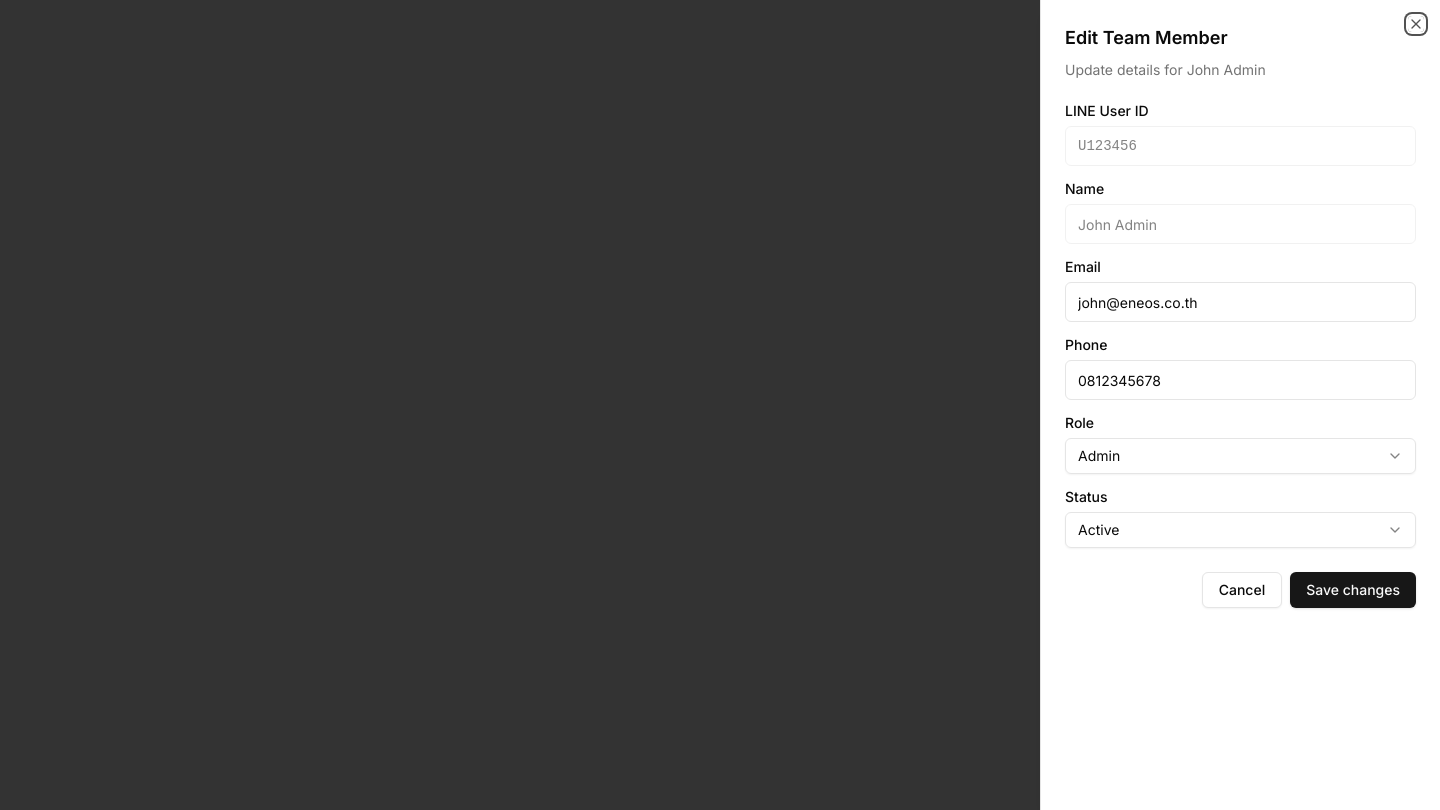
Test: TeamMemberEditModal Component › AC#4: Phone validation › should show error for invalid Thai phone format
Type "12345" into the field with test id "input-phone".
click(1240, 380); type("12345")  # box [1065,360,1416,400]
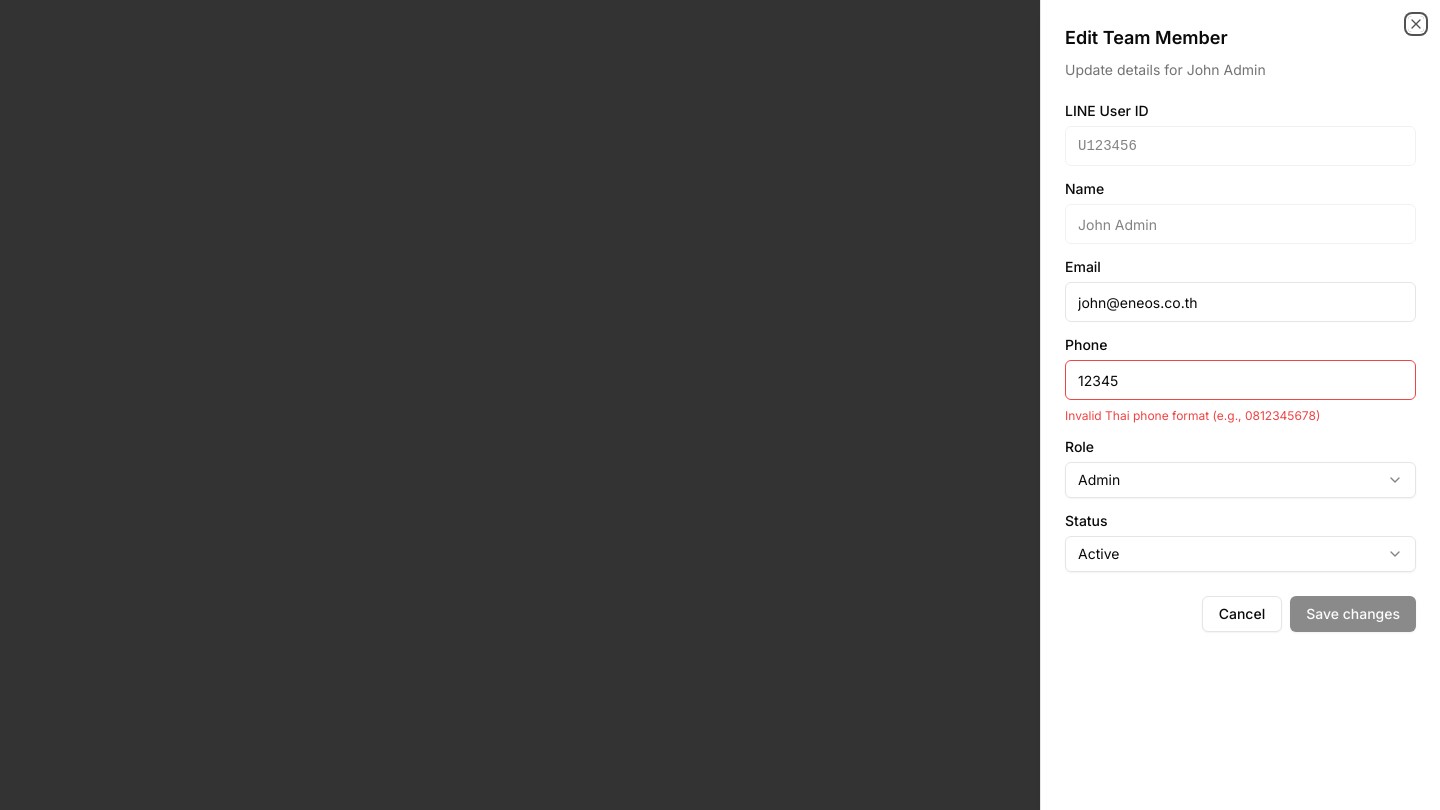
Expected: the text with test id "phone-error" shows "Invalid Thai phone format", [1065,408,1320,423]
